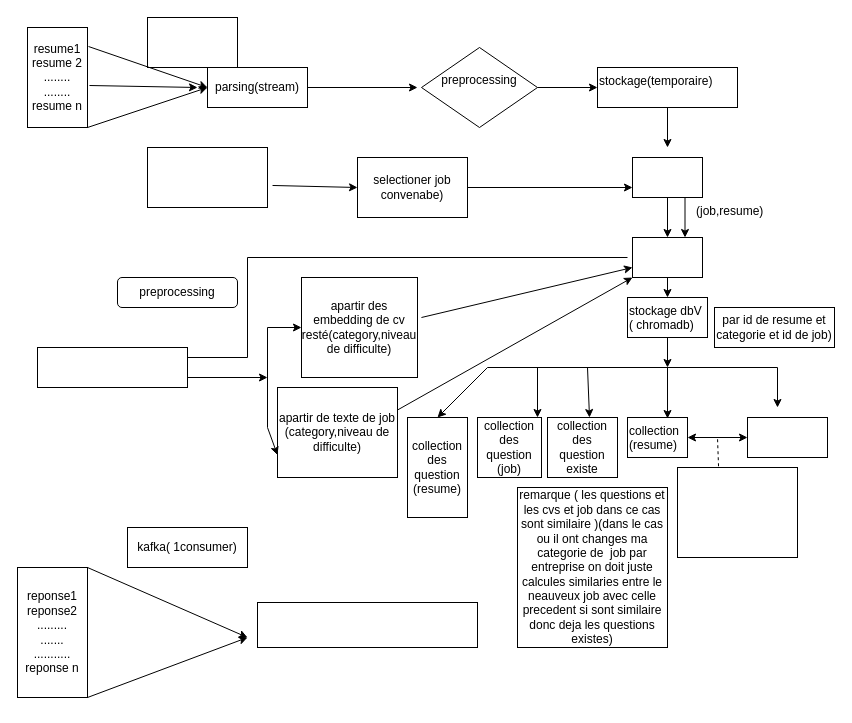
This 852x723 diagram has some shape labels left out. Each missing label, with the box of its shape:
1.evaluation de question ( resume) 2.evaluation de question (job): (256, 602, 478, 648)
1.Question deja existe 2.generation des questions: (36, 346, 188, 388)
chunking: (632, 156, 702, 198)
collection(job): (746, 416, 828, 458)
db( job) depond entreprise): (146, 146, 268, 208)
Embedding: (632, 236, 702, 278)
kafka(avec 1 consumer): (146, 16, 238, 68)
similarity(si ne son pas similaire supprimer embedding de cv non similaire: (676, 466, 798, 558)
